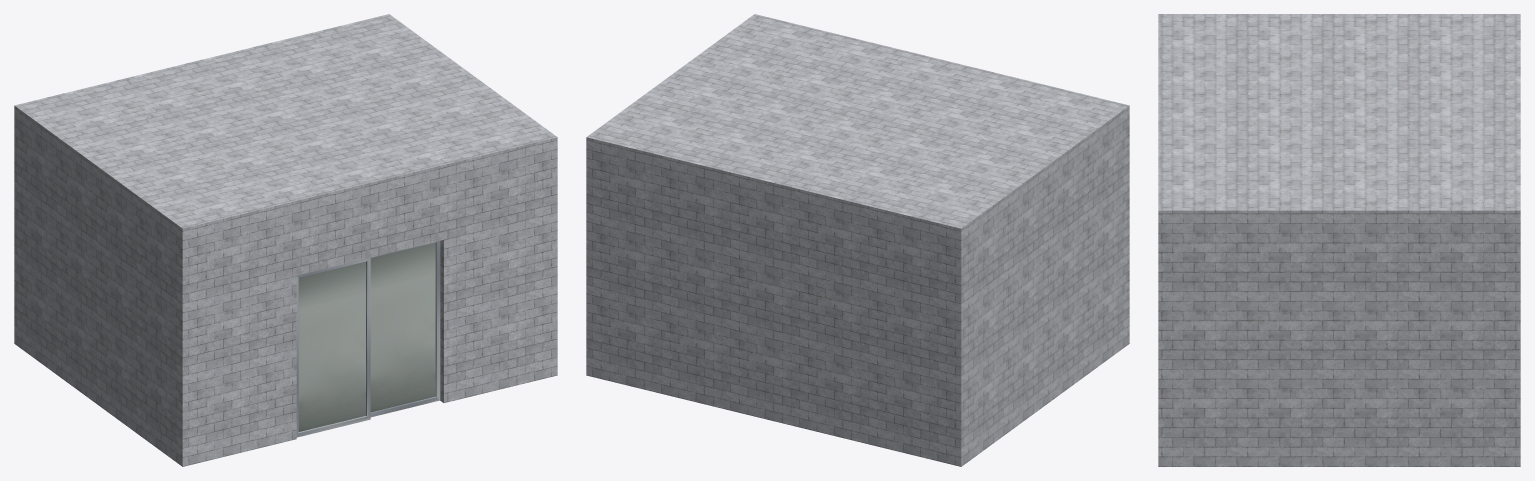
The model's file is EnterDoor_001.fbx.
3 views of the same model, side by side, from view 1: azimuth 30°, elevation 25°; view 2: azimuth 150°, elevation 25°; view 3: azimuth 270°, elevation 25° (orthographic). The views are drawn at different scales.
Visible parts, largest first — view 1: EnterDoor_001; view 2: EnterDoor_001; view 3: EnterDoor_001.
Part boxes in pixels (box(x1,y1,x2,y2)): EnterDoor_001: box(14, 14, 557, 466); EnterDoor_001: box(586, 14, 1129, 466); EnterDoor_001: box(1158, 14, 1520, 466).
Bounding box in the file's own units: 543 × 330 × 422.
2 materials, 2 textured.
